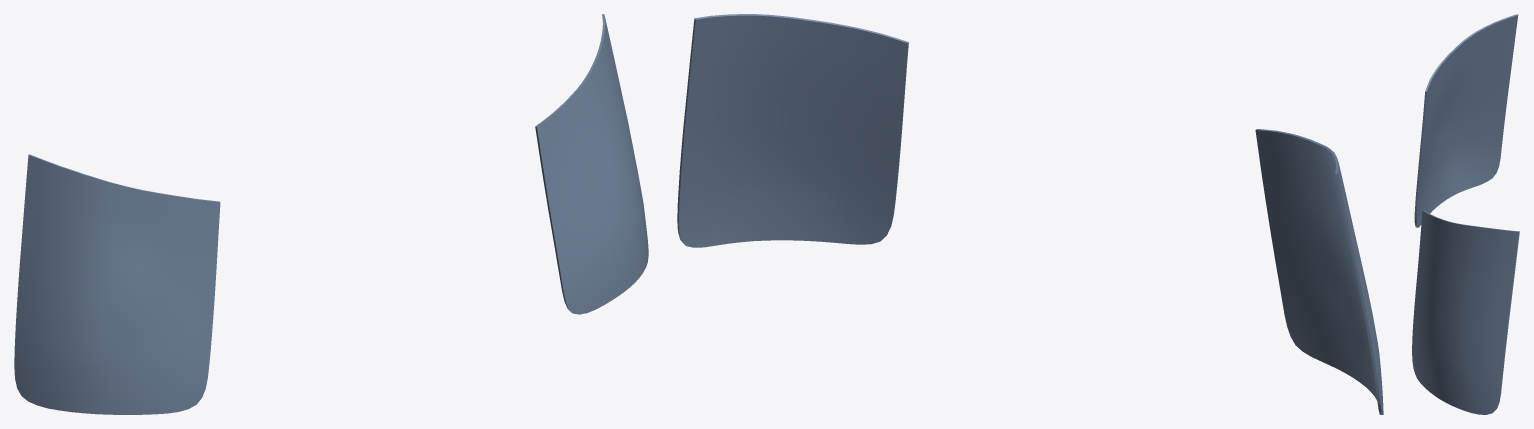
The model's file is SM_CarlosSA_Jacket_WaistPockets_Patch.fbx.
3 renders of one model, left to right at view 1: azimuth 30°, elevation 25°; view 2: azimuth 150°, elevation 25°; view 3: azimuth 270°, elevation 25°, orthographic. The views are drawn at different scales.
Visible parts, largest first — view 1: SM_CarlosSA_Jacket_WaistPockets_Patch; view 2: SM_CarlosSA_Jacket_WaistPockets_Patch; view 3: SM_CarlosSA_Jacket_WaistPockets_Patch.
Part boxes in pixels (x1,y1,x2,y2): SM_CarlosSA_Jacket_WaistPockets_Patch: (14, 14, 648, 414); SM_CarlosSA_Jacket_WaistPockets_Patch: (677, 14, 1383, 414); SM_CarlosSA_Jacket_WaistPockets_Patch: (1412, 14, 1519, 414).
Bounding box in the file's own units: 0.352 × 0.1237 × 0.0676.
